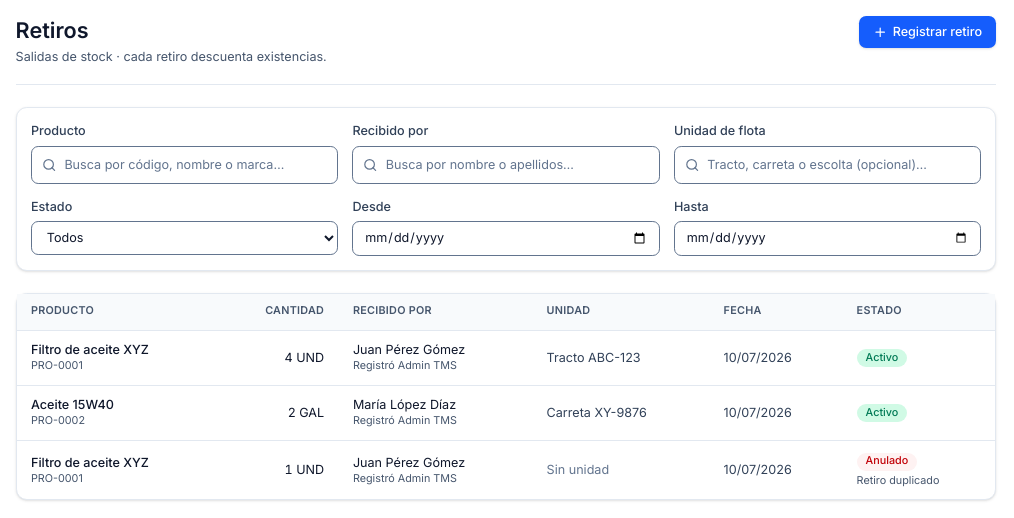
Test: WithdrawalsListPage › el filtro de unidad pide la flota entera: solo las vigentes y sin acotar el subtipo
Click the dropdown labelled "Unidad de flota" at x=827, y=164, box [674,146,981,184]
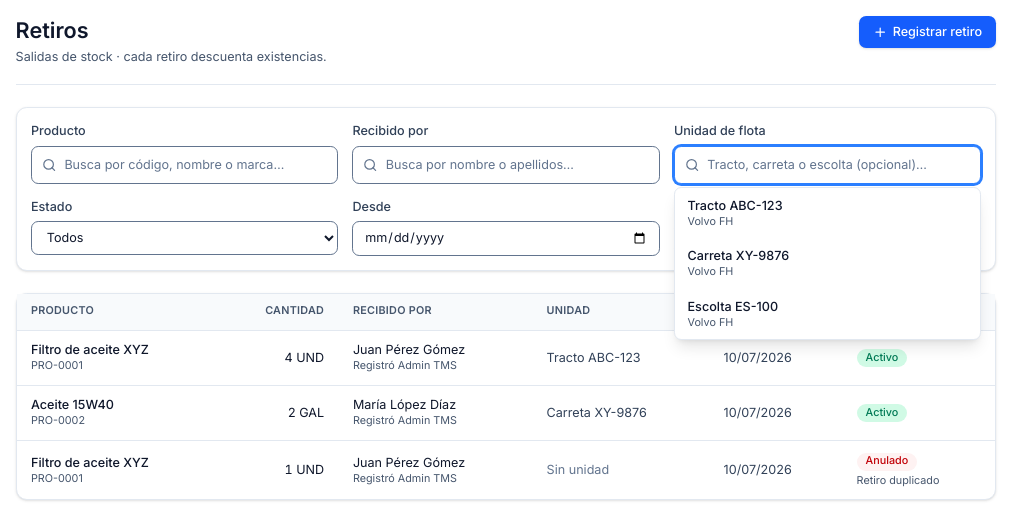
expect the text "Tracto ABC-123" below "Unidad de flota" is shown: met, box [688,198,782,213]
expect the text "Carreta XY-9876" below "Unidad de flota" is shown: met, box [688,248,789,264]
expect the text "Escolta ES-100" is shown: met, box [688,299,778,314]
